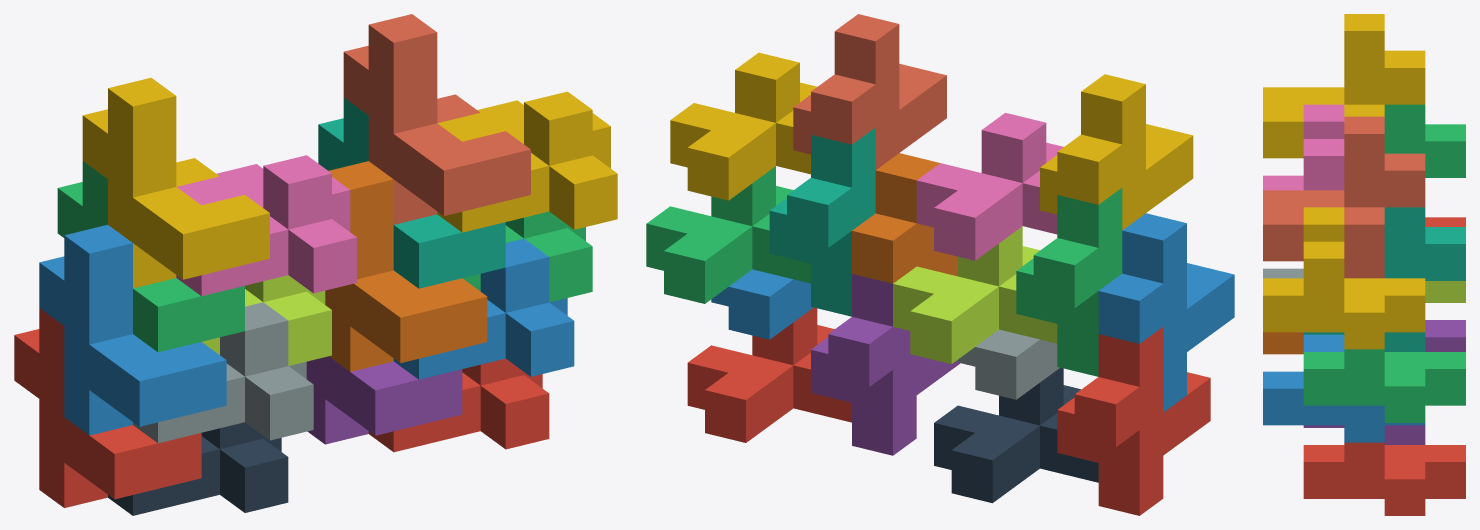
File: tiling.obj
The picture shows the model from 3 angles, left to right: view 1: azimuth 30°, elevation 25°; view 2: azimuth 150°, elevation 25°; view 3: azimuth 270°, elevation 25°; orthographic projection. The views are drawn at different scales.
Visible parts, largest first — view 1: copy_1_domain_2, copy_1_domain_8, copy_1_domain_4, copy_1_domain_6, copy_1_domain_1, copy_2_domain_4, copy_2_domain_8, copy_2_domain_6, copy_2_domain_2, copy_1_domain_5, copy_1_domain_3, copy_1_domain_7 (+4 smaller); view 2: copy_1_domain_1, copy_1_domain_2, copy_1_domain_8, copy_1_domain_4, copy_1_domain_5, copy_2_domain_4, copy_2_domain_8, copy_1_domain_3, copy_1_domain_7, copy_2_domain_3, copy_2_domain_1, copy_2_domain_5 (+4 smaller); view 3: copy_2_domain_8, copy_1_domain_8, copy_1_domain_4, copy_2_domain_5, copy_2_domain_7, copy_1_domain_7, copy_2_domain_6, copy_2_domain_4, copy_1_domain_3, copy_1_domain_5, copy_1_domain_6, copy_2_domain_3 (+2 smaller).
Boxes of the visible parts, <box> form: copy_1_domain_2: <box>39,224,226,435</box>; copy_1_domain_8: <box>343,14,530,224</box>; copy_1_domain_4: <box>82,77,269,288</box>; copy_1_domain_6: <box>325,161,487,371</box>; copy_1_domain_1: <box>14,308,201,507</box>; copy_2_domain_4: <box>176,155,356,296</box>; copy_2_domain_8: <box>437,91,617,232</box>; copy_2_domain_6: <box>393,238,574,379</box>; copy_2_domain_2: <box>133,302,313,443</box>; copy_1_domain_5: <box>306,356,462,444</box>; copy_1_domain_3: <box>57,161,244,352</box>; copy_1_domain_7: <box>318,97,505,288</box>; copy_1_domain_1: <box>1057,327,1210,515</box>; copy_1_domain_2: <box>1098,213,1234,412</box>; copy_1_domain_8: <box>793,14,946,169</box>; copy_1_domain_4: <box>1040,74,1193,229</box>; copy_1_domain_5: <box>811,274,960,455</box>; copy_2_domain_4: <box>916,113,1063,260</box>; copy_2_domain_8: <box>670,52,817,200</box>; copy_1_domain_3: <box>1016,188,1122,376</box>; copy_1_domain_7: <box>769,127,875,316</box>; copy_2_domain_3: <box>893,226,1057,363</box>; copy_2_domain_1: <box>934,367,1098,503</box>; copy_2_domain_5: <box>687,307,851,442</box>; copy_2_domain_8: <box>1263,207,1425,349</box>; copy_1_domain_8: <box>1263,116,1425,278</box>; copy_1_domain_4: <box>1263,14,1425,158</box>; copy_2_domain_5: <box>1303,442,1465,515</box>; copy_2_domain_7: <box>1303,349,1465,422</box>; copy_1_domain_7: <box>1303,207,1465,351</box>; copy_2_domain_6: <box>1263,334,1425,442</box>; copy_2_domain_4: <box>1263,104,1344,190</box>; copy_1_domain_3: <box>1384,104,1465,177</box>; copy_1_domain_5: <box>1303,320,1465,444</box>; copy_1_domain_6: <box>1263,332,1303,354</box>; copy_2_domain_3: <box>1425,281,1465,302</box>.
Bounding box in the file's own units: 12 × 9 × 5.
